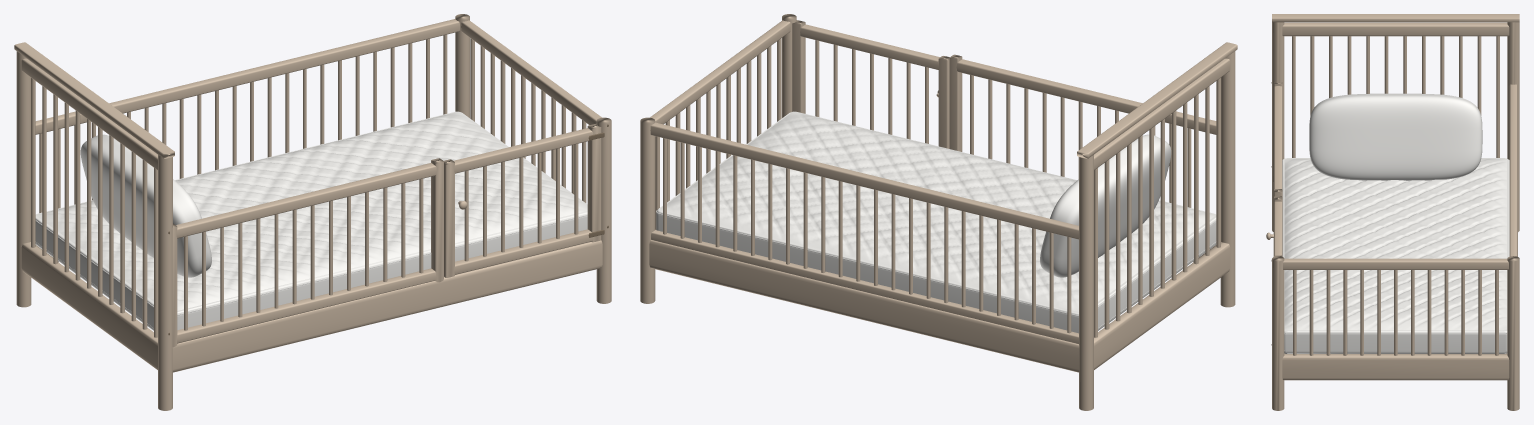
File: bling3_beige_baby.glb
The picture shows the model from 3 angles, left to right: view 1: azimuth 30°, elevation 25°; view 2: azimuth 150°, elevation 25°; view 3: azimuth 270°, elevation 25°; orthographic projection. The views are drawn at different scales.
Visible parts, largest first — view 1: White diamond quilted comforter, Solid long base rail, Rounded bed post (×4), Fitted ivory mattress covering bed deck 2000 x 1110 x 120 mm, Soft white rectangular pillow, Back full top rail, End base rail, Gate horizontal rail (×2), Front fixed top rail, Front fixed lower rail, Gate vertical stile (×2), Head floating crown (+16 smaller); view 2: White diamond quilted comforter, Solid long base rail, Rounded bed post (×4), Fitted ivory mattress covering bed deck 2000 x 1110 x 120 mm, Back full top rail, Soft white rectangular pillow, Back lower rail, End base rail, Front fixed top rail, Head floating crown, Foot upper rail, Gate vertical stile (×2) (+16 smaller); view 3: White diamond quilted comforter, Soft white rectangular pillow, Rounded bed post (×4), End base rail, Fitted ivory mattress covering bed deck 2000 x 1110 x 120 mm, Head upper cross rail, Foot upper rail, Head floating crown, Back full top rail, Front fixed top rail, Gate horizontal rail, Head vertical spindle 00 (+21 smaller).
Boxes of the visible parts, left/top/right/bottom form: White diamond quilted comforter: left=36, top=111, right=587, bottom=310; Solid long base rail: left=172, top=240, right=602, bottom=372; Rounded bed post (×4): left=16, top=14, right=611, bottom=410; Fitted ivory mattress covering bed deck 2000 x 1110 x 120 mm: left=35, top=111, right=587, bottom=330; Soft white rectangular pillow: left=80, top=134, right=211, bottom=277; Back full top rail: left=35, top=19, right=459, bottom=134; End base rail: left=21, top=242, right=157, bottom=369; Gate horizontal rail (×2): left=453, top=128, right=593, bottom=274; Front fixed top rail: left=176, top=163, right=436, bottom=238; Front fixed lower rail: left=177, top=268, right=436, bottom=343; Gate vertical stile (×2): left=444, top=123, right=601, bottom=277; Head floating crown: left=14, top=42, right=174, bottom=158; White diamond quilted comforter: left=659, top=111, right=1215, bottom=311; Solid long base rail: left=649, top=240, right=1079, bottom=372; Rounded bed post (×4): left=640, top=14, right=1235, bottom=410; Fitted ivory mattress covering bed deck 2000 x 1110 x 120 mm: left=656, top=111, right=1216, bottom=333; Back full top rail: left=650, top=122, right=1079, bottom=239; Soft white rectangular pillow: left=1040, top=134, right=1171, bottom=277; Back lower rail: left=651, top=230, right=1078, bottom=343; End base rail: left=1094, top=242, right=1230, bottom=369; Front fixed top rail: left=956, top=59, right=1216, bottom=134; Head floating crown: left=1077, top=42, right=1237, bottom=158; Foot upper rail: left=650, top=20, right=790, bottom=124; Gate vertical stile (×2): left=792, top=20, right=949, bottom=148; White diamond quilted comforter: left=1284, top=158, right=1506, bottom=330; Soft white rectangular pillow: left=1309, top=93, right=1482, bottom=180; Rounded bed post (×4): left=1272, top=22, right=1519, bottom=410; End base rail: left=1282, top=354, right=1509, bottom=380; Fitted ivory mattress covering bed deck 2000 x 1110 x 120 mm: left=1282, top=158, right=1509, bottom=353; Head upper cross rail: left=1282, top=22, right=1509, bottom=36; Foot upper rail: left=1283, top=258, right=1508, bottom=269; Head floating crown: left=1272, top=14, right=1519, bottom=22; Back full top rail: left=1509, top=84, right=1517, bottom=256; Front fixed top rail: left=1274, top=86, right=1282, bottom=188; Gate horizontal rail: left=1274, top=201, right=1282, bottom=255; Head vertical spindle 00: left=1496, top=36, right=1499, bottom=157.
Bounding box in the file's own units: 2.1 × 1.15 × 1.23.
